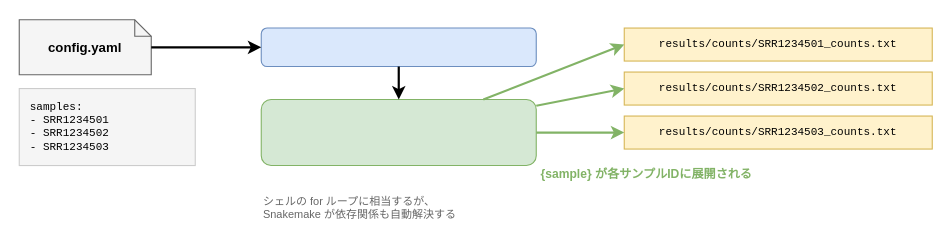
This 952x240 diagram has some shape labels left out. Each missing label, with the centre of its shape:
expand("results/counts/ {sample}_counts.txt", sample=SAMPLES): the point at 398,132
SAMPLES = config["samples"]: the point at 398,47
